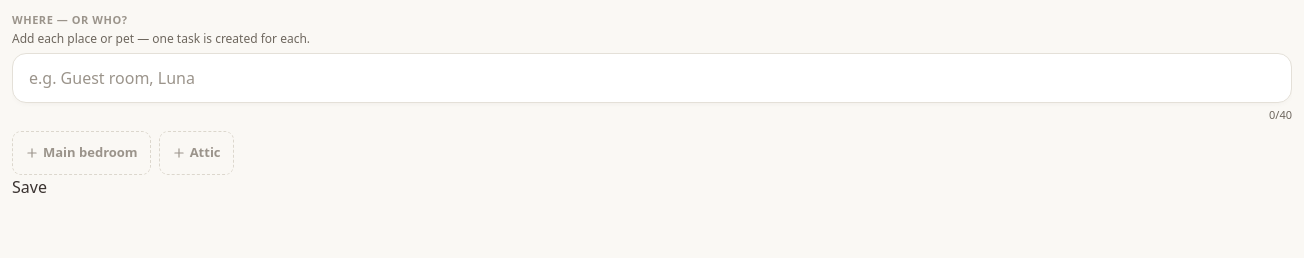
it: InstanceLabelsField › adds a suggestion on tap
Click the button "Main bedroom".
click(81, 153)  # box left=12, top=131, right=151, bottom=175
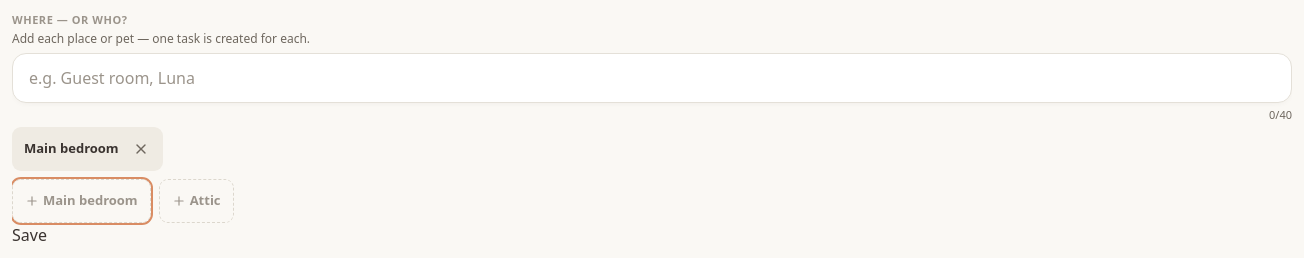
expect the element named "Suggestions" is shown: met, box left=12, top=179, right=234, bottom=223
expect the button named "Remove Main bedroom" is shown: met, box left=123, top=131, right=159, bottom=167
